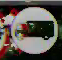Heavy Vehicles: (9, 5, 61, 54)
